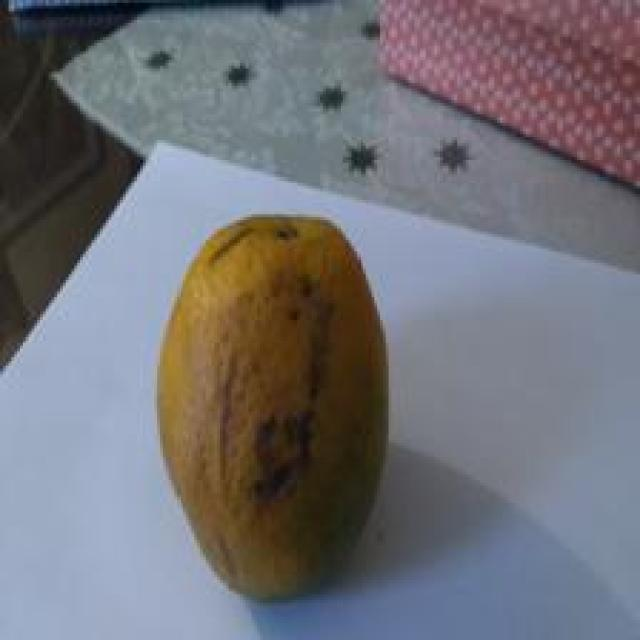overripe: (154, 213, 400, 607)
